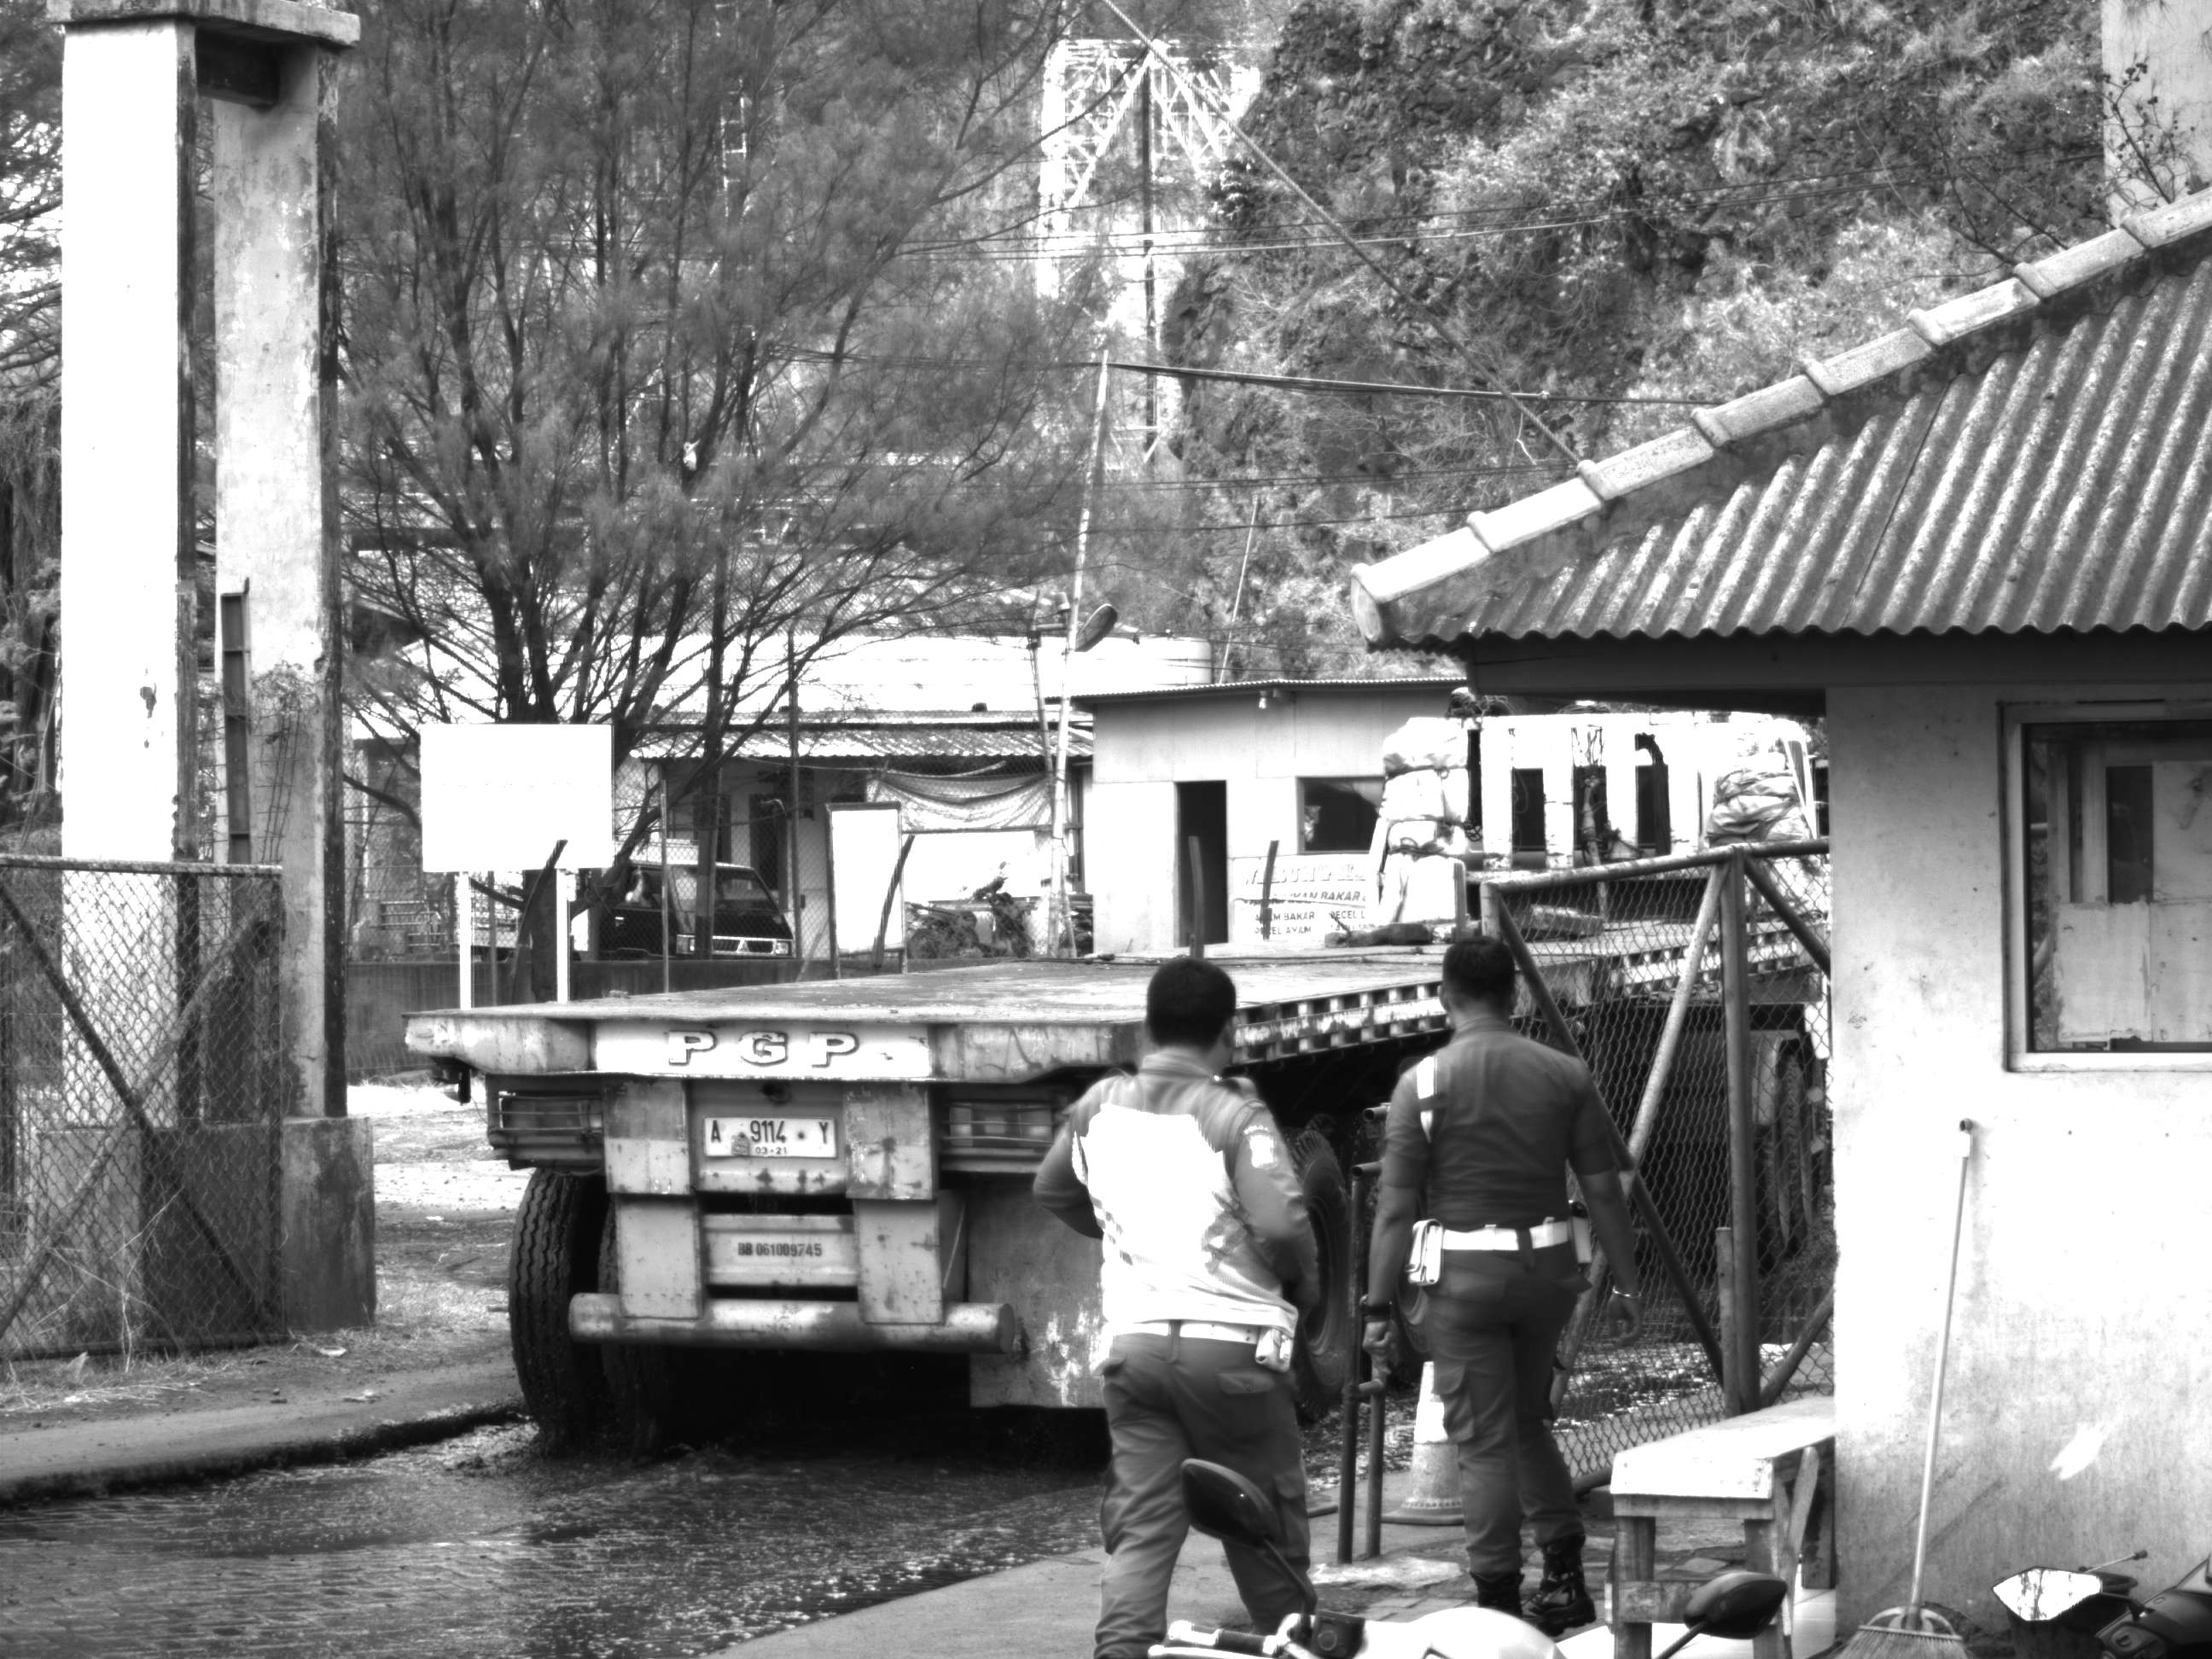day_truck_rear: (384, 969, 1373, 1447)
plate: (704, 1113, 838, 1163)
